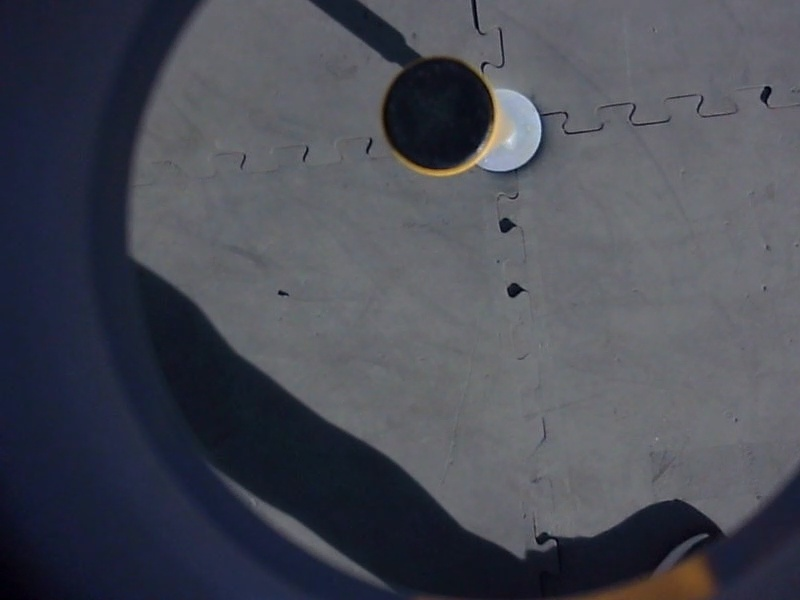tip: (374, 49, 503, 184)
